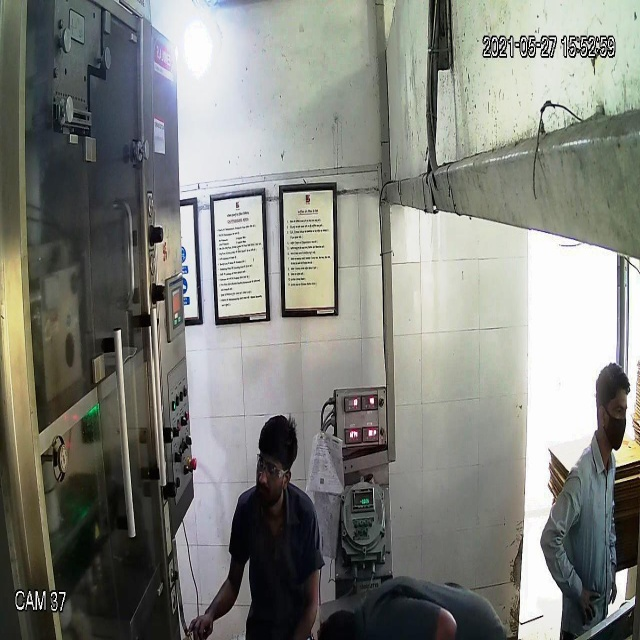Gafas: (249, 450, 293, 481)
Sin_gafas: (599, 396, 632, 421)
